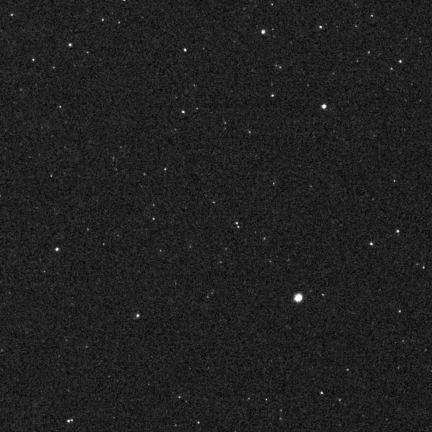blob: (322, 104, 326, 109)
